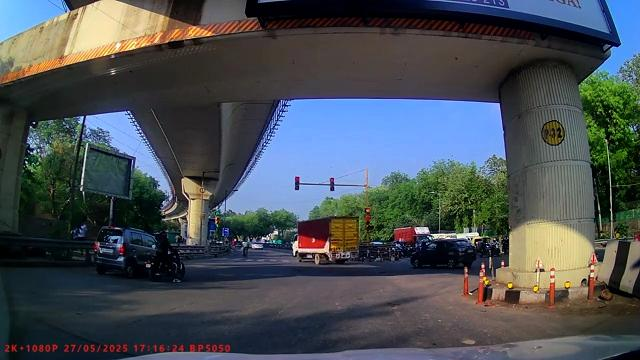motorcycle_with_helmet: (147, 229, 186, 283)
